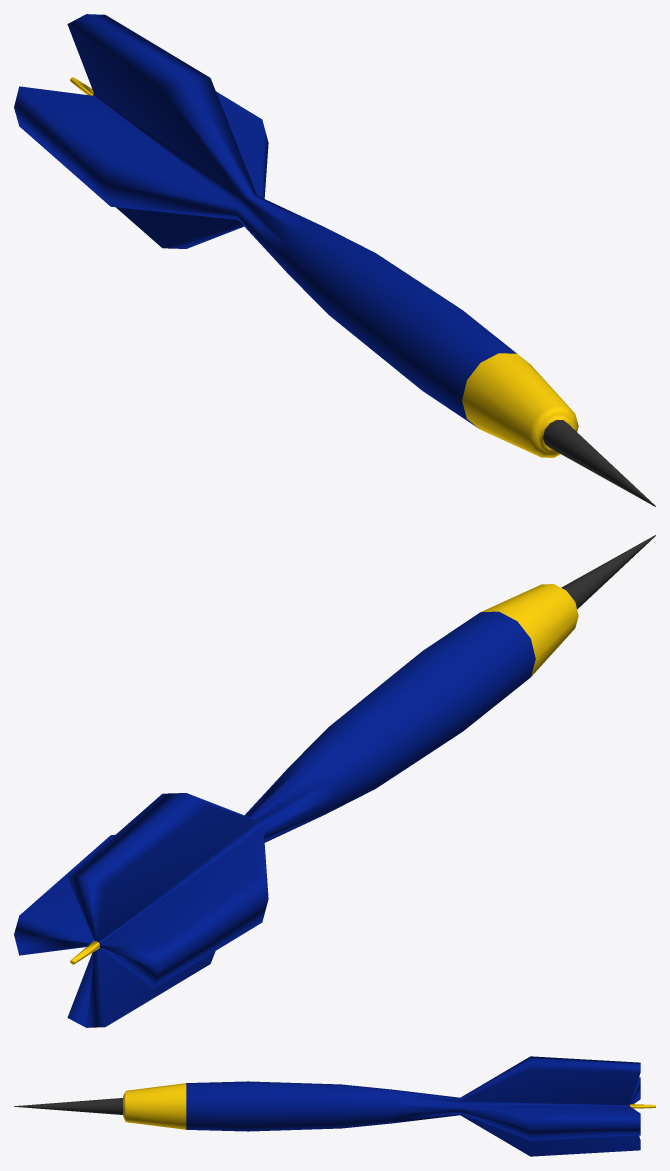
Rendered from Dardo.fbx.
3 renders of one model, top to bottom at view 1: azimuth 30°, elevation 25°; view 2: azimuth 150°, elevation 25°; view 3: azimuth 270°, elevation 25°, orthographic. The views are drawn at different scales.
Visible parts, largest first — view 1: Dardo; view 2: Dardo; view 3: Dardo.
Boxes of the visible parts, x1=… form: Dardo: x1=14, y1=14, x2=655, y2=506; Dardo: x1=14, y1=535, x2=655, y2=1027; Dardo: x1=14, y1=1056, x2=655, y2=1156.
Size of the model in its own units: 0.0415 by 0.0415 by 0.2546.
